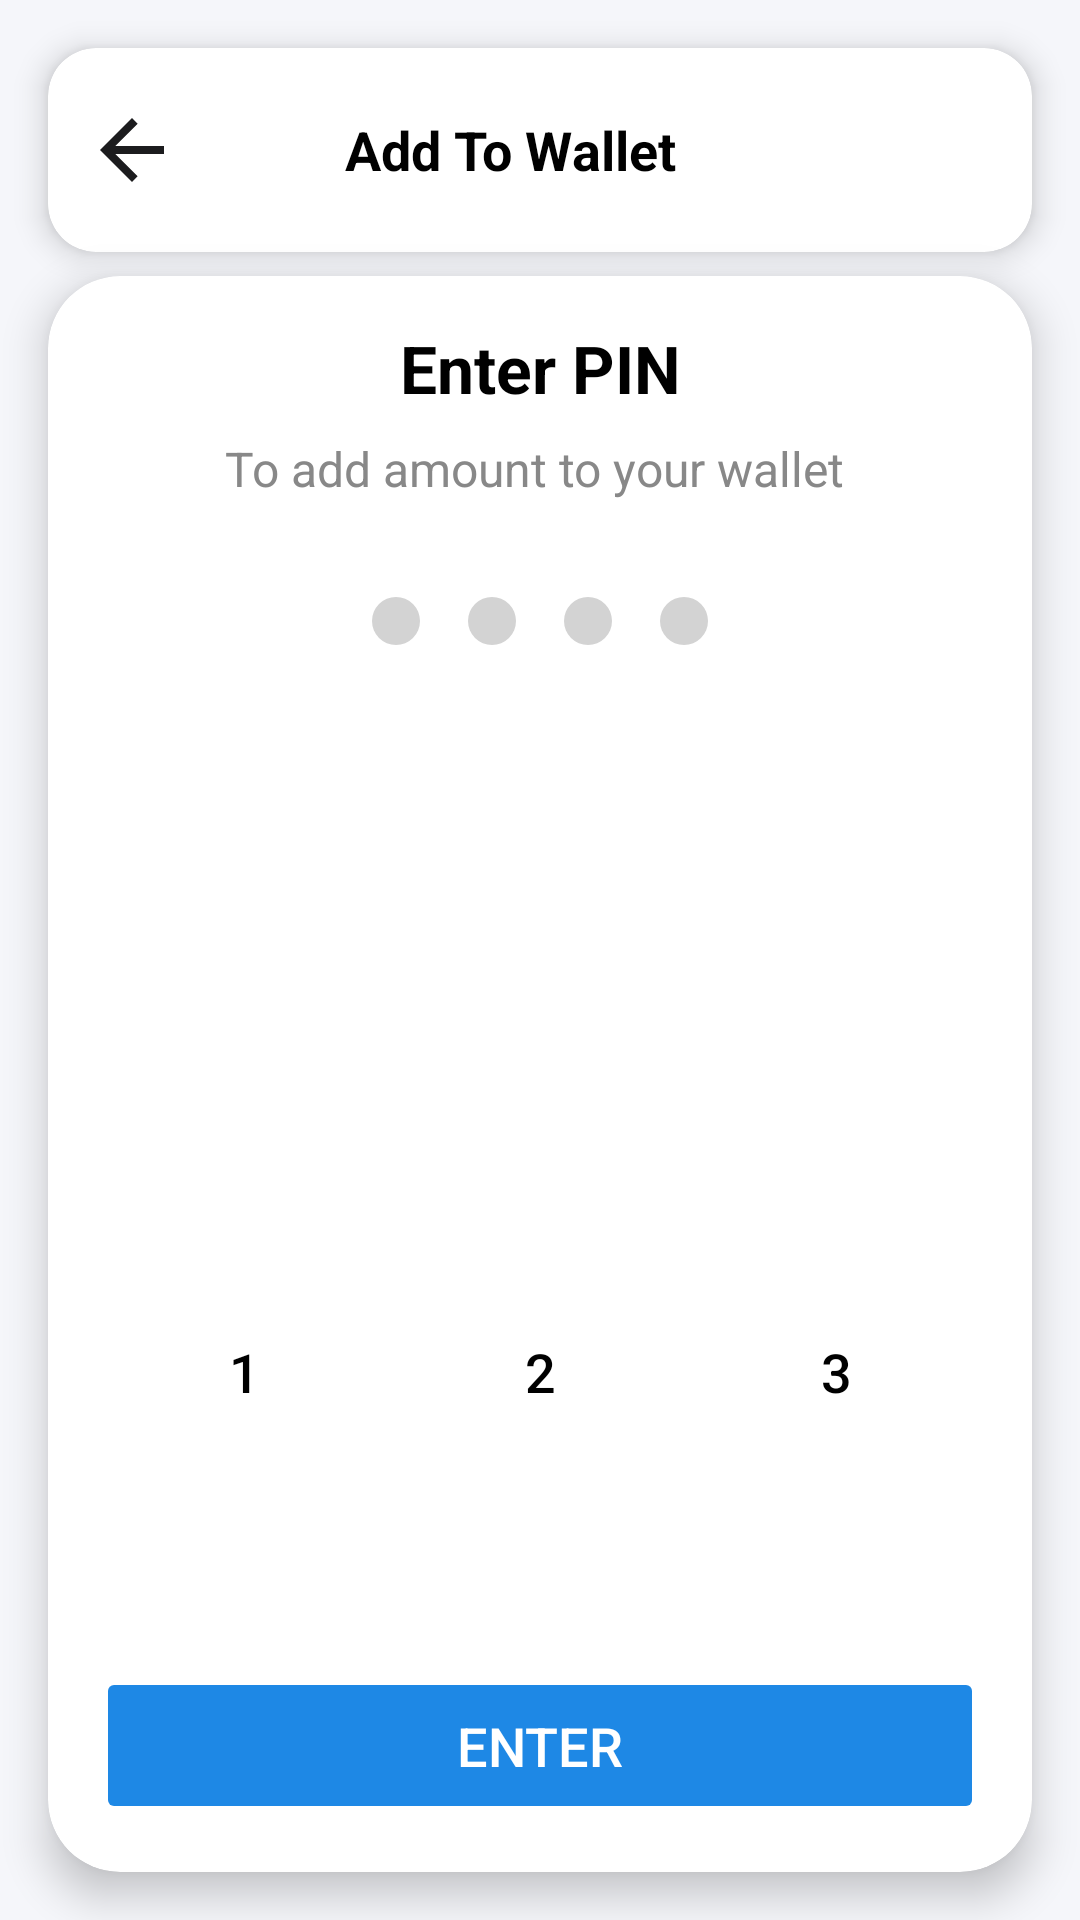

Named icons in this screenshot (1080 x 1920) and their centers, [x,y]:
Back: [132,150]
